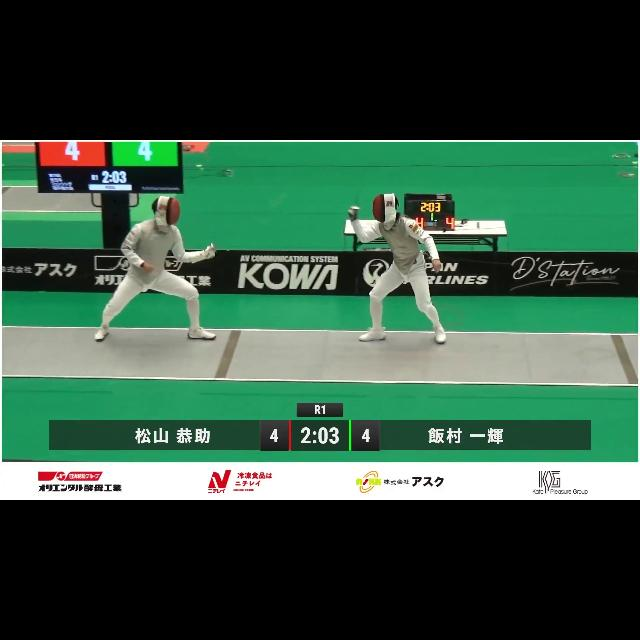blade: (204, 186, 292, 258), (344, 177, 368, 221)
